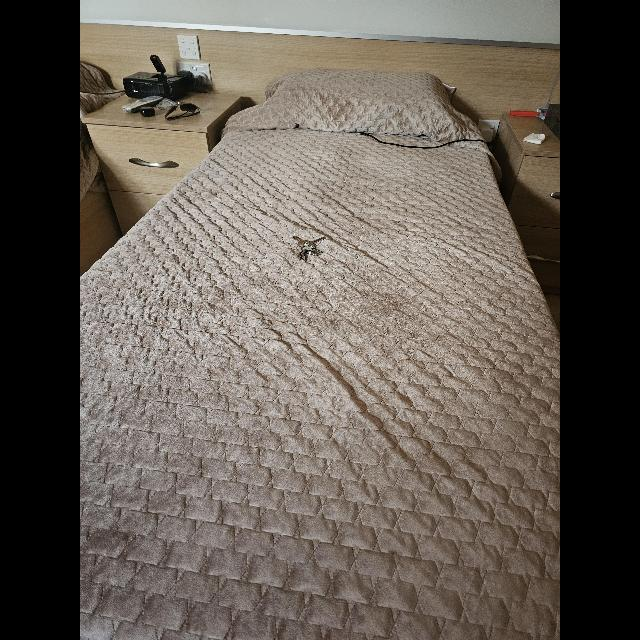Keys: (294, 237, 326, 261)
Sunglasses: (163, 102, 201, 120)
